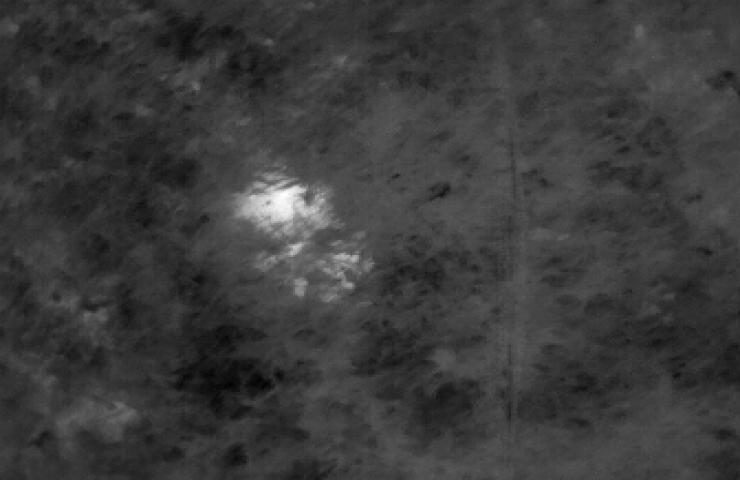landmines: (231, 169, 347, 240)
